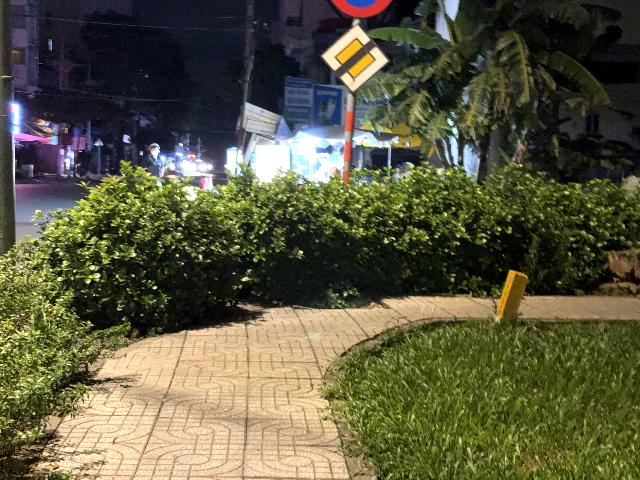het-duong-uu-tien: (319, 22, 391, 96)
